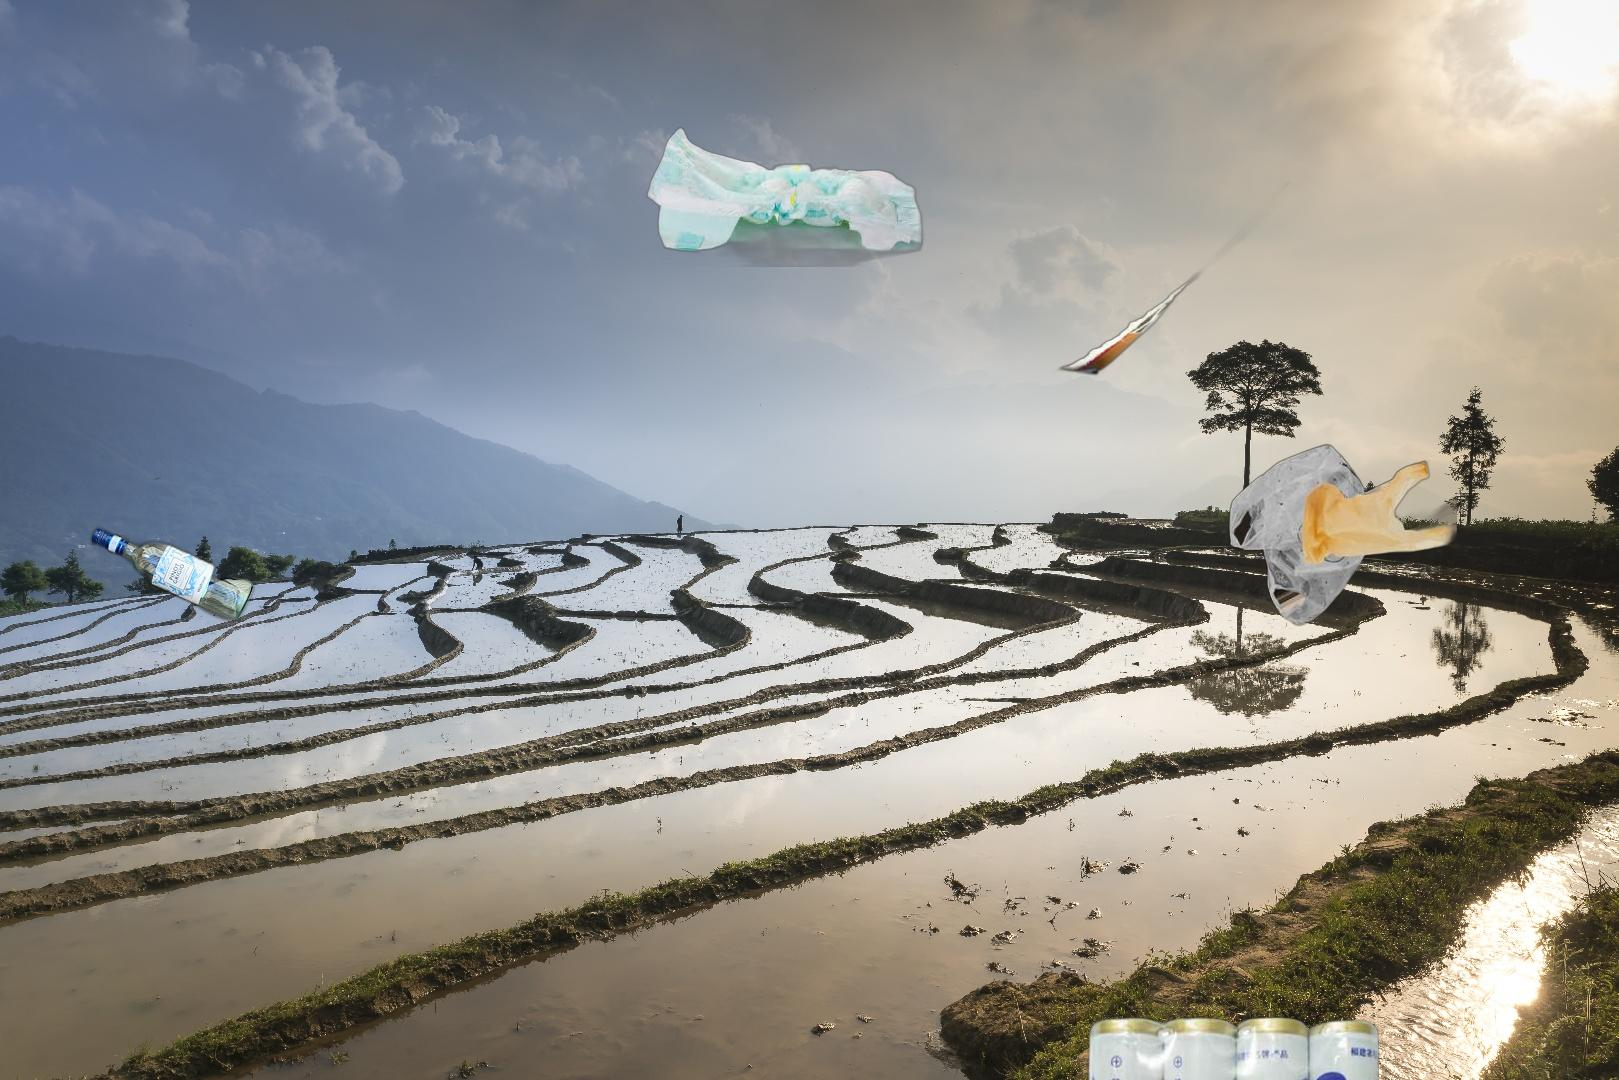battery: (1087, 1009, 1379, 1080)
glass: (86, 521, 259, 628)
paper: (1048, 182, 1307, 378)
plastic-bag: (1226, 442, 1457, 628)
trash: (644, 125, 938, 268)
